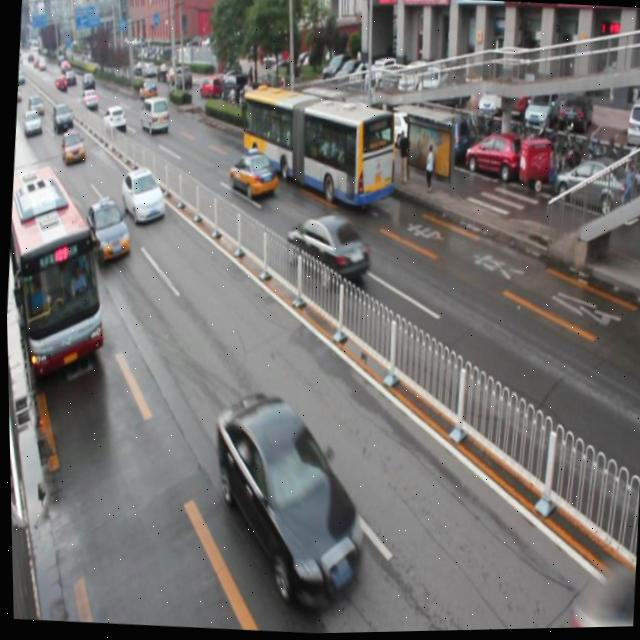car: (203, 387, 376, 616), (282, 210, 371, 292), (83, 193, 132, 265), (227, 147, 279, 200), (120, 170, 167, 227), (60, 126, 86, 164)
truck: (139, 98, 170, 136)
van: (3, 160, 115, 383), (235, 83, 397, 213)
